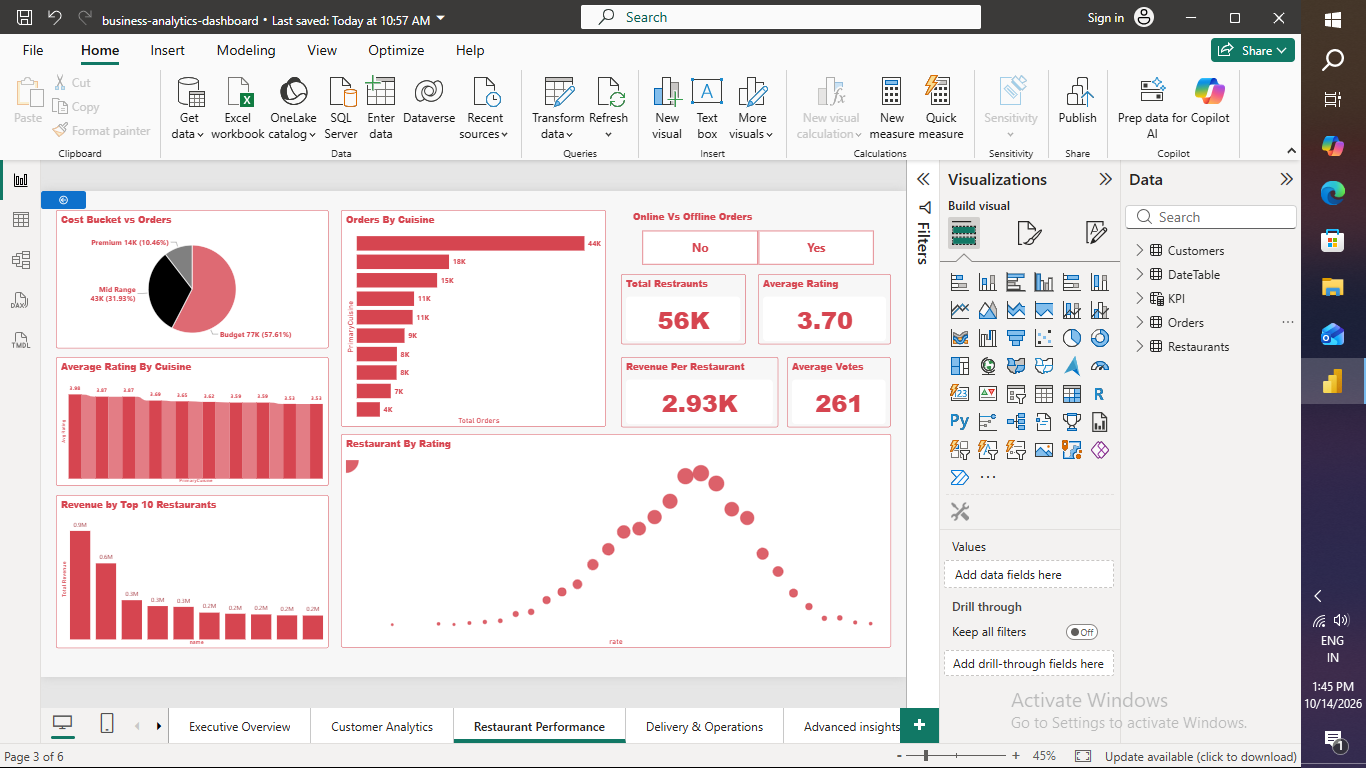

The page's visual inventory and layout, read from the dashboard file:
{"tool":"powerbi","page":{"name":"Restaurant Performance","canvas":[1920,1080],"ordinal":2},"visuals":[{"type":"cardVisual","title":"Total Restraunts","fields":{"Data":["Orders.Total Restaurants"]},"box":[1288.4,183.7,276.7,155.8],"z":0},{"type":"cardVisual","title":"Average Rating","fields":{"Data":["Orders.Avg Rating"]},"box":[1590.7,183.7,295.3,155.8],"z":1000},{"type":"cardVisual","title":"Average Votes","fields":{"Data":["Orders.Avg Votes"]},"box":[1655.8,367.4,230.2,155.8],"z":2000},{"type":"cardVisual","title":"Revenue Per Restaurant","fields":{"Data":["Orders.Revenue per Restaurant"]},"box":[1288.4,367.4,348.8,155.8],"z":3000},{"type":"barChart","title":"Orders By Cuisine","fields":{"Category":["Restaurants.PrimaryCuisine"],"Y":["Orders.Total Orders"]},"box":[665.1,41.9,588.4,481.4],"z":4000},{"type":"columnChart","title":"Revenue by Top 10 Restaurants","fields":{"Category":["Restaurants.name"],"Y":["Orders.Total Revenue"]},"box":[32.6,674.4,604.7,339.5],"z":5000},{"type":"columnChart","title":"Average Rating By Cuisine","fields":{"Category":["Restaurants.PrimaryCuisine"],"Y":["Orders.Avg Rating"]},"box":[32.6,367.4,604.7,286],"z":6000},{"type":"scatterChart","title":"Restaurant By Rating","fields":{"Size":["Orders.Total Orders"],"X":["Restaurants.rate"],"Y":["Orders.Total Revenue"]},"box":[665.1,539.5,1220.9,474.4],"z":7000},{"type":"pieChart","title":"Cost Bucket vs Orders","fields":{"Category":["Restaurants.Cost Bucket"],"Y":["Orders.Total Orders"]},"box":[32.6,41.9,604.7,307],"z":8000},{"type":"slicer","title":"Online Vs Offline Orders","fields":{"Values":["Restaurants.Online_Order 2"]},"box":[1314,41.9,553.5,123.3],"z":9000},{"type":"actionButton","box":[0,0,100,40],"z":9001}]}

Visuals, with their boxes on the page's 1920x1080 design canvas (x1, y1, x2, y2). These are canvas units, not pixel positions in the 1366x768 screenshot, which may show the page scaled, cropped or inside an application window:
"Total Restraunts" cardVisual: (x1=1288, y1=184, x2=1565, y2=340)
"Average Rating" cardVisual: (x1=1591, y1=184, x2=1886, y2=340)
"Average Votes" cardVisual: (x1=1656, y1=367, x2=1886, y2=523)
"Revenue Per Restaurant" cardVisual: (x1=1288, y1=367, x2=1637, y2=523)
"Orders By Cuisine" barChart: (x1=665, y1=42, x2=1254, y2=523)
"Revenue by Top 10 Restaurants" columnChart: (x1=33, y1=674, x2=637, y2=1014)
"Average Rating By Cuisine" columnChart: (x1=33, y1=367, x2=637, y2=653)
"Restaurant By Rating" scatterChart: (x1=665, y1=540, x2=1886, y2=1014)
"Cost Bucket vs Orders" pieChart: (x1=33, y1=42, x2=637, y2=349)
"Online Vs Offline Orders" slicer: (x1=1314, y1=42, x2=1868, y2=165)
actionButton: (x1=0, y1=0, x2=100, y2=40)
